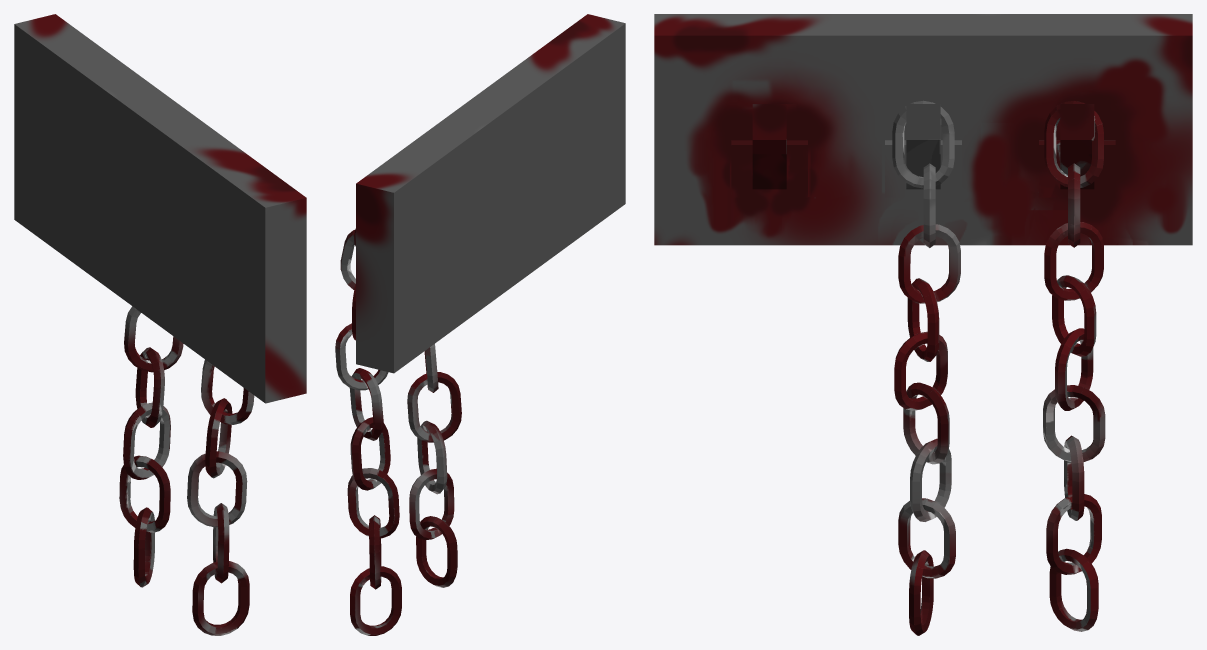
File: HangingChains.fbx
The picture shows the model from 3 angles, left to right: view 1: azimuth 30°, elevation 25°; view 2: azimuth 150°, elevation 25°; view 3: azimuth 270°, elevation 25°; orthographic projection. The views are drawn at different scales.
Visible parts, largest first — view 1: Torus; view 2: Torus; view 3: Torus.
Part boxes in pixels (bbox=[...]): Torus: bbox=[14, 14, 306, 635]; Torus: bbox=[335, 14, 625, 635]; Torus: bbox=[654, 14, 1192, 635].
Size of the model in its own units: 586 by 2501 by 2112.
Materials: 1 (1 with a texture image).
